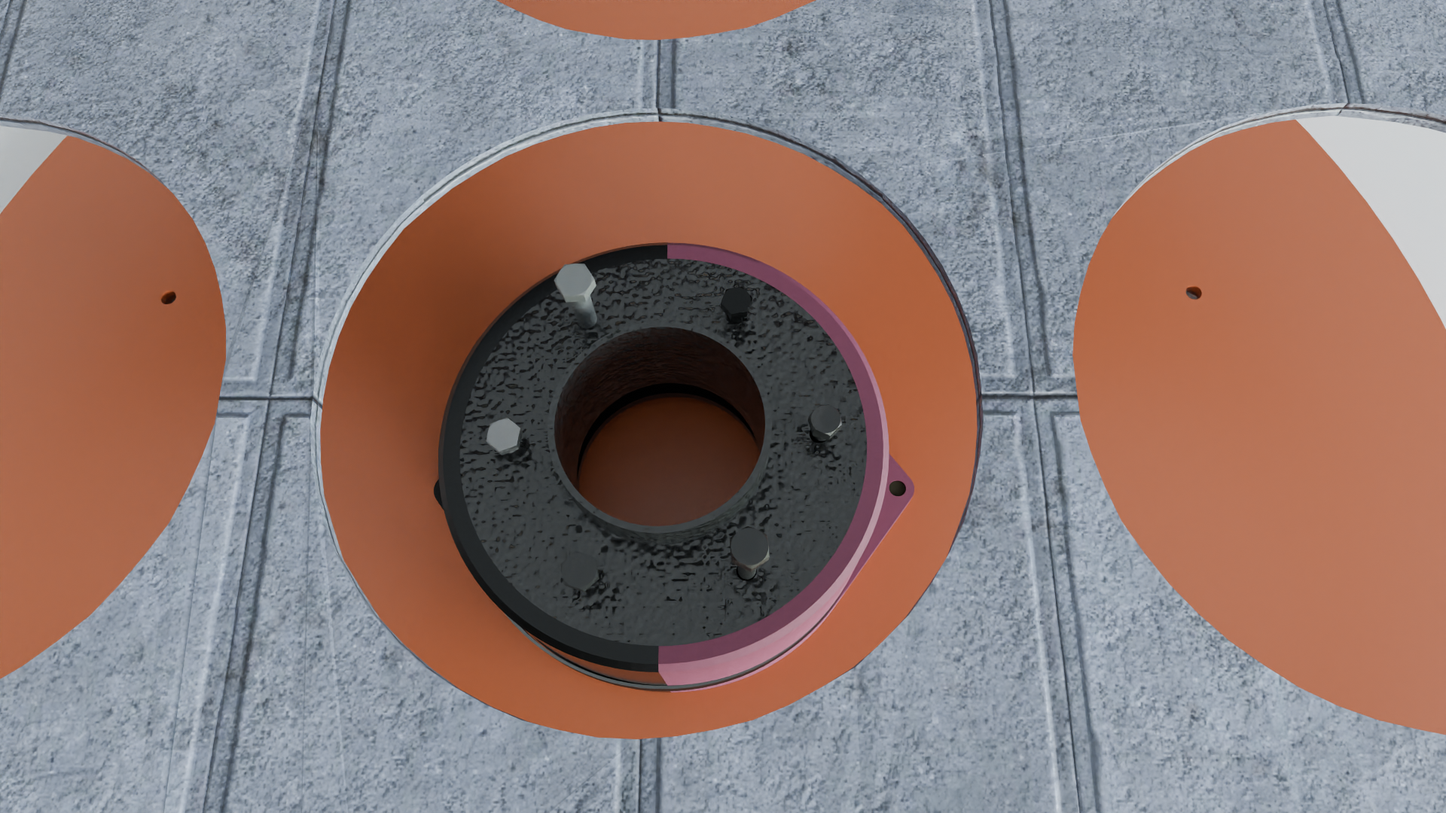bolt: (730, 526, 770, 569), (560, 551, 598, 589), (554, 263, 594, 296), (486, 418, 520, 452), (809, 405, 842, 436), (721, 287, 752, 315)
